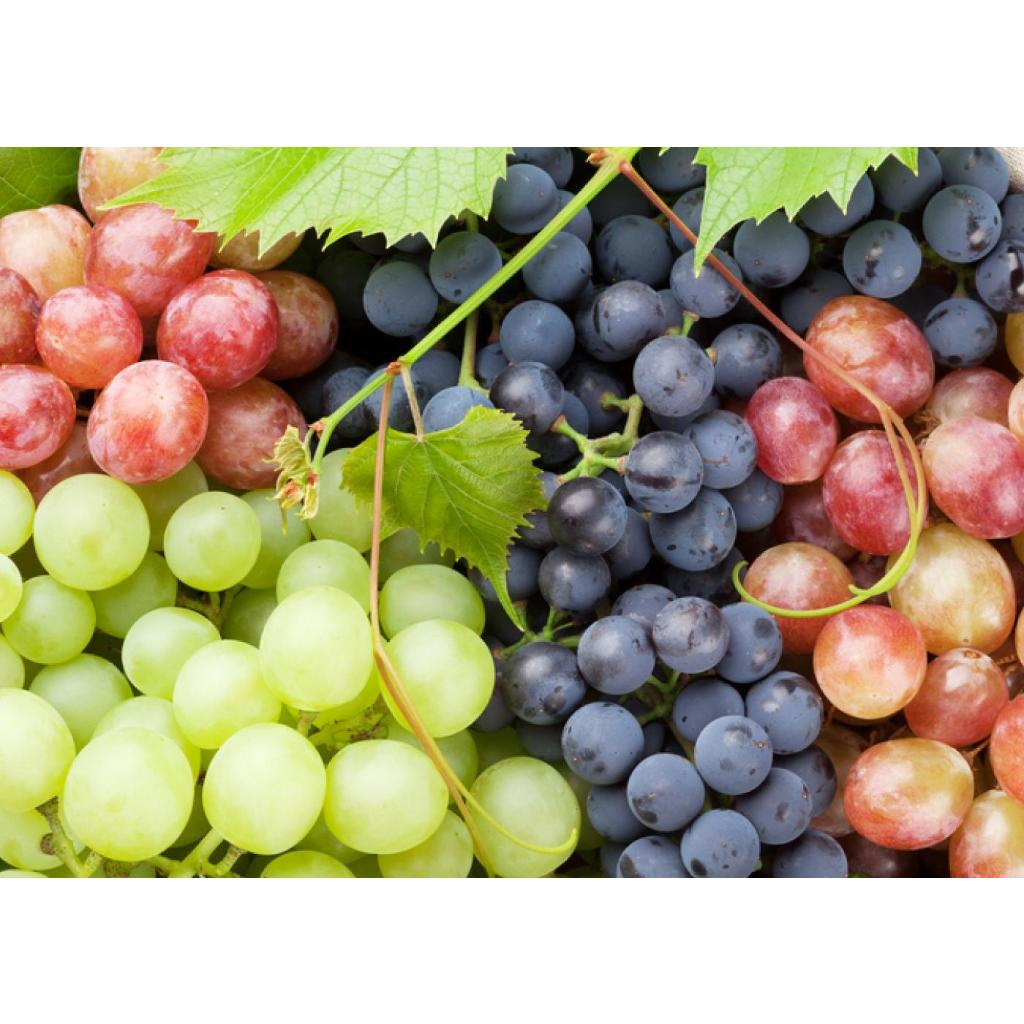grape: (0, 470, 448, 876), (0, 584, 472, 874), (504, 584, 848, 876), (386, 616, 494, 782), (464, 758, 576, 874)
